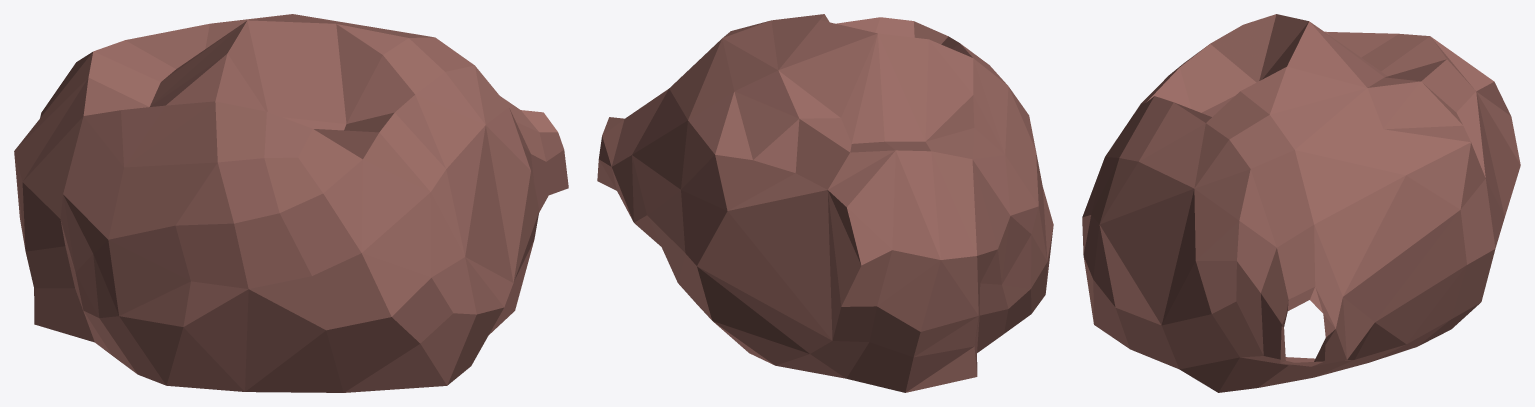
The model's file is Dome-1exit-04.fbx.
3 renders of one model, left to right at view 1: azimuth 30°, elevation 25°; view 2: azimuth 150°, elevation 25°; view 3: azimuth 270°, elevation 25°, orthographic. The views are drawn at different scales.
Visible parts, largest first — view 1: Dome-1exit-04; view 2: Dome-1exit-04; view 3: Dome-1exit-04.
Boxes of the visible parts, x1,y1,x2,y2 form: Dome-1exit-04: [14, 14, 568, 392]; Dome-1exit-04: [597, 14, 1053, 392]; Dome-1exit-04: [1082, 14, 1520, 392].
Size of the model in its own units: 1746 by 1958 by 1239.
